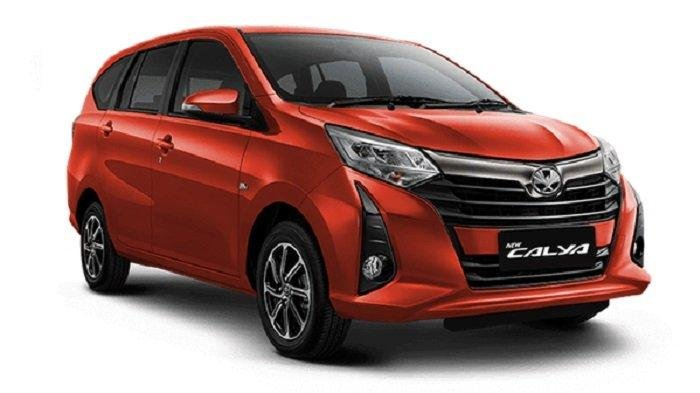mobil: (64, 26, 650, 357)
